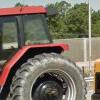Tractor: (4, 3, 86, 100)
